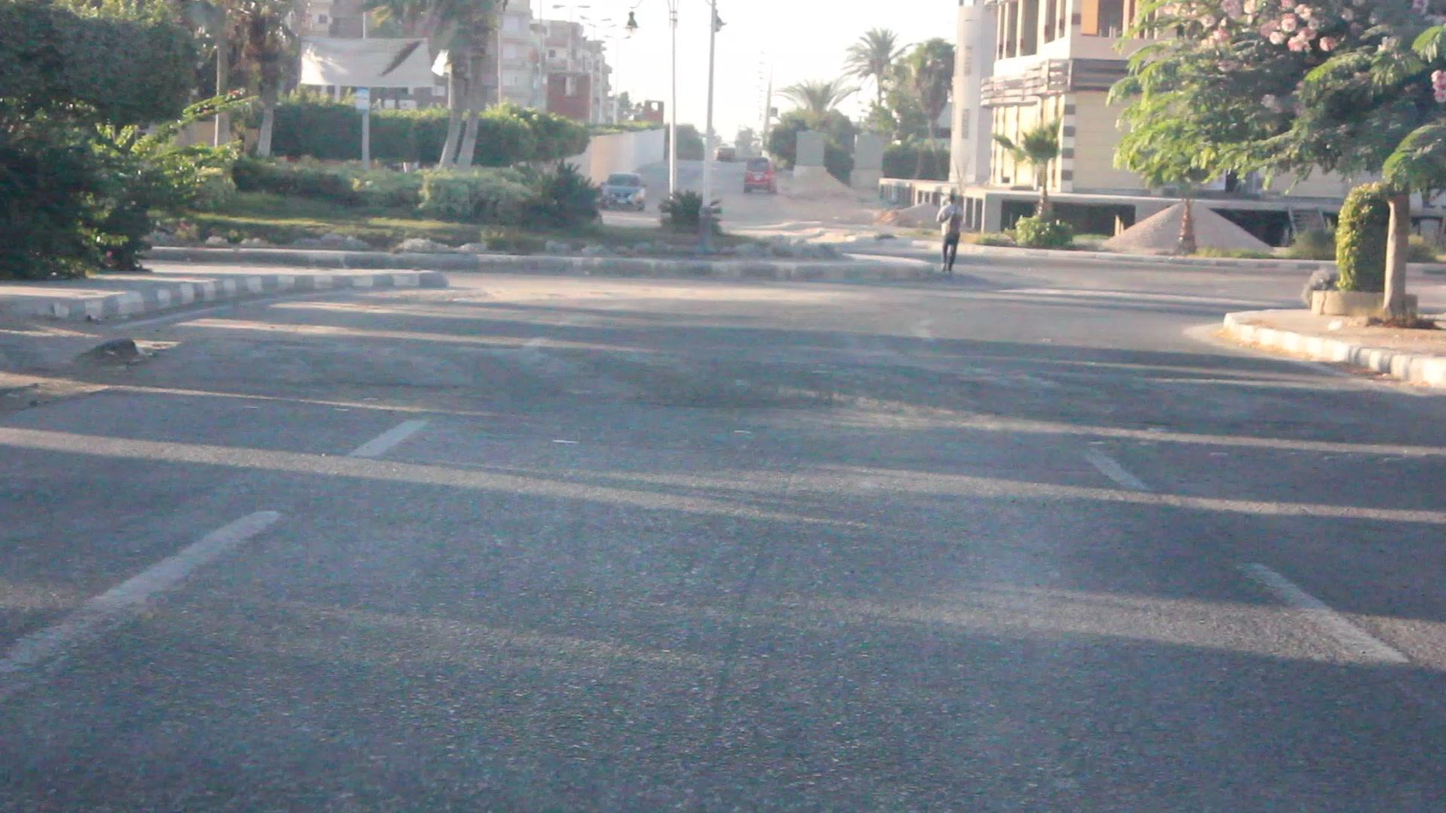Bump: (175, 339, 1290, 414)
